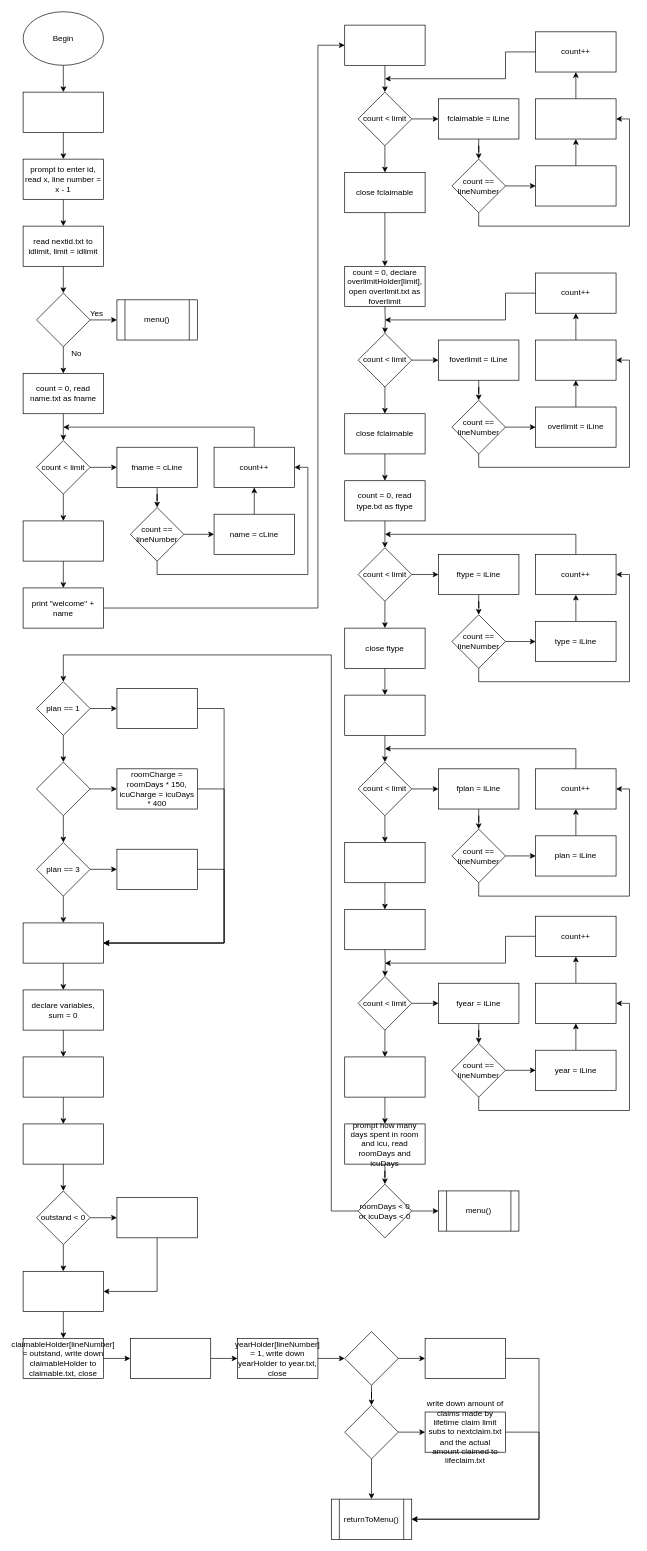
The diagram is 647 pixels wide and 1551 high, and some of its shapes have lost their labels. Here are the shapes that lost their labels. From the top down, the centre of each, then its label:
[384,44]: count = 0 declare claimableHolder[limit] open claimable.txt as fclaimable
[63,111]: declare variables
[575,118]: claimableHolder[count] = iLine
[575,185]: claimable = iLine
[63,319]: x < 0 or x > idlimit
[575,359]: overlimitHolder[count] = iLine
[63,540]: close fname
[156,708]: roomCharge = roomDays * 120, icuCharge = icuDays * 250
[384,714]: count = 0, read plan.txt as fplan
[63,788]: plan == 2
[156,869]: roomCharge = roomDays * 200, icuCharge = icuDays * 700
[384,862]: close fplan
[63,942]: prompt user to enter other charges, read hSupply, hSurgical, and hOther
[384,929]: count = 0, declare yearHolder[limit], open year.txt as fyear
[575,1003]: yearHolder[count] = iLine
[63,1076]: sum = roomCharge + icuCharge + hSupply + hSurgical + hOther
[384,1076]: close fyear
[63,1143]: outstand = claimable - sum, printOutstand = 0 - outstand
[156,1217]: print outstanding amount, overlimit = 1
[63,1291]: print subscriber detail
[170,1358]: claimHolder[lineNumber] = sum, write down claimHolder to claim.txt, close
[371,1358]: type == 1 and overlimit == 1
[465,1358]: write down to overlimit.txt
[371,1432]: type == 2
